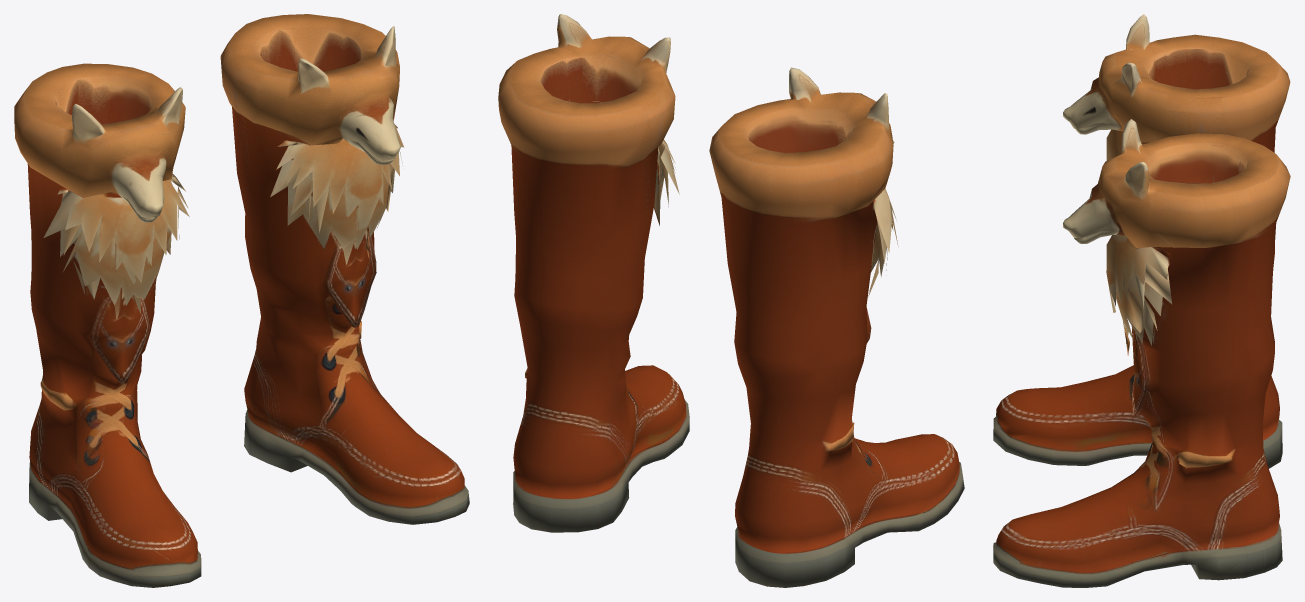
File: first-wolf_refine.glb
3 renders of one model, left to right at view 1: azimuth 30°, elevation 25°; view 2: azimuth 150°, elevation 25°; view 3: azimuth 270°, elevation 25°, orthographic. The views are drawn at different scales.
Size of the model in its own units: 0.8354 by 0.9536 by 0.6133.
1 material, 1 textured.
